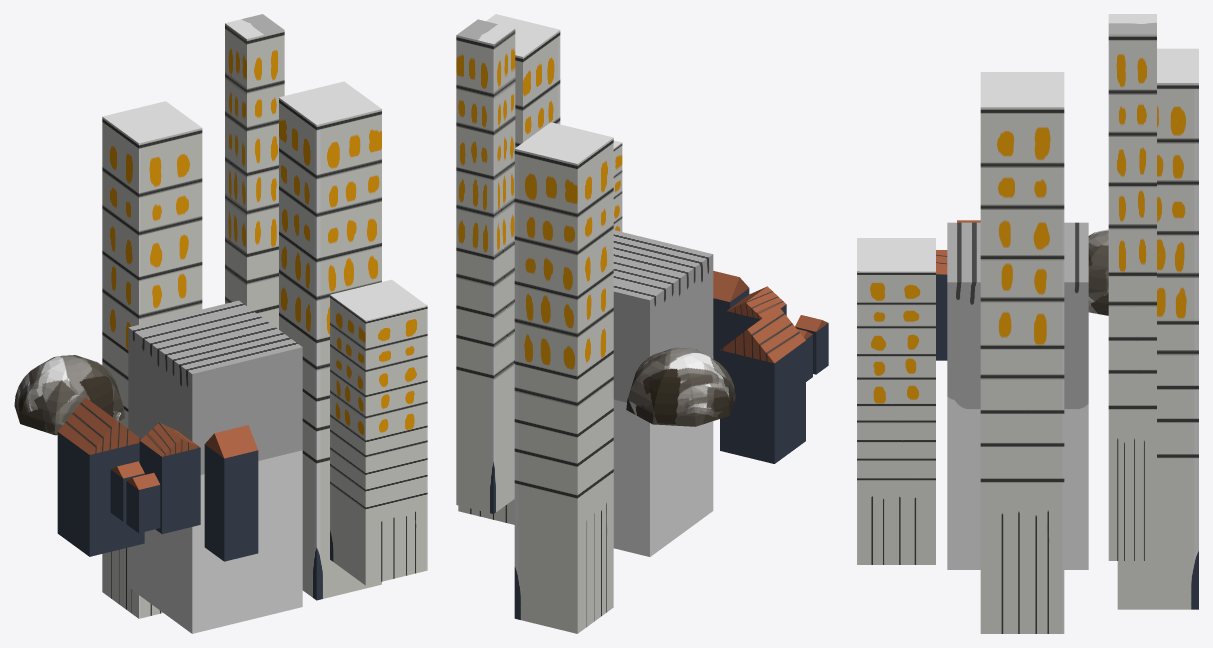
Rendered from Residentials.glb.
3 views of the same model, side by side, from view 1: azimuth 30°, elevation 25°; view 2: azimuth 150°, elevation 25°; view 3: azimuth 270°, elevation 25° (orthographic). The views are drawn at different scales.
Visible parts, largest first — view 1: Residentials; view 2: Residentials; view 3: Residentials.
Boxes of the visible parts, bbox=[...] form: Residentials: bbox=[14, 14, 427, 633]; Residentials: bbox=[456, 14, 828, 633]; Residentials: bbox=[857, 14, 1198, 633].
Size of the model in its own units: 0.5096 by 0.8955 by 0.4495.
Materials: 1 (1 with a texture image).
